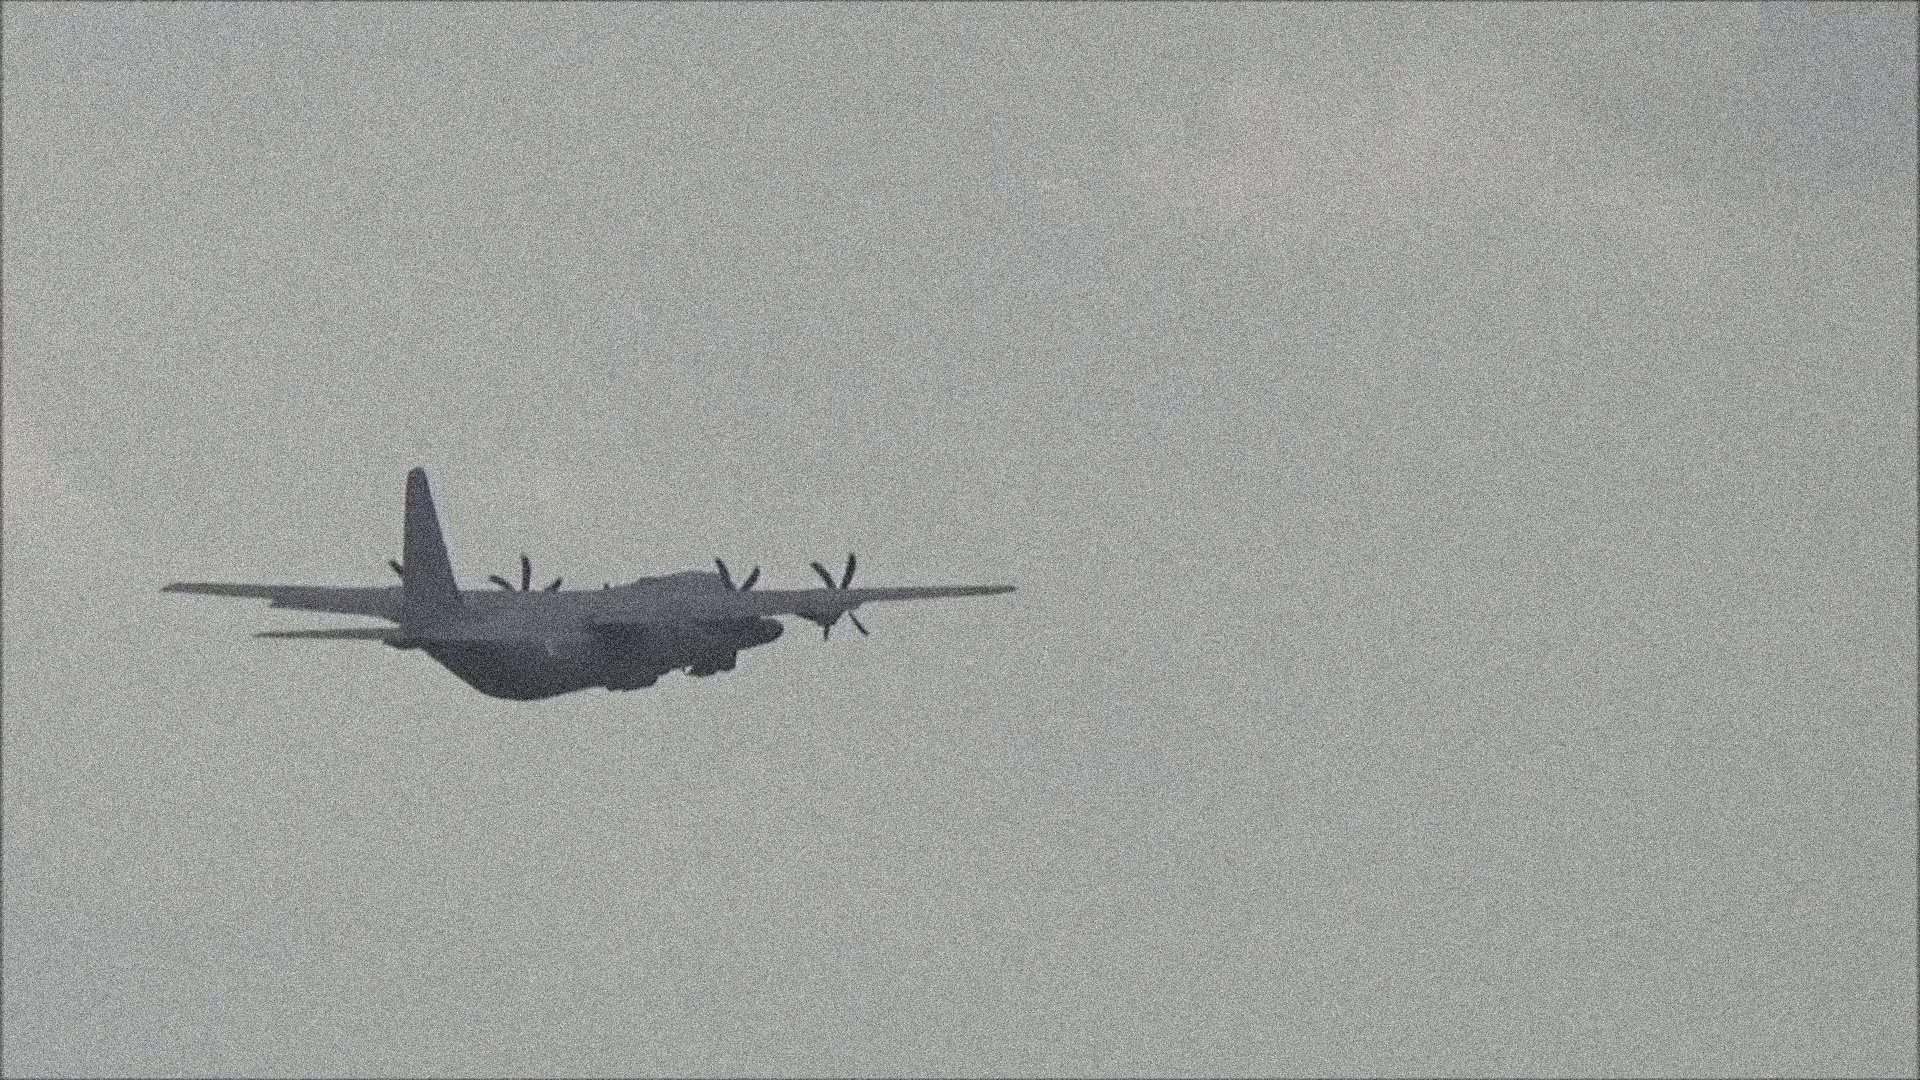Airplane: (166, 468, 1026, 695)
